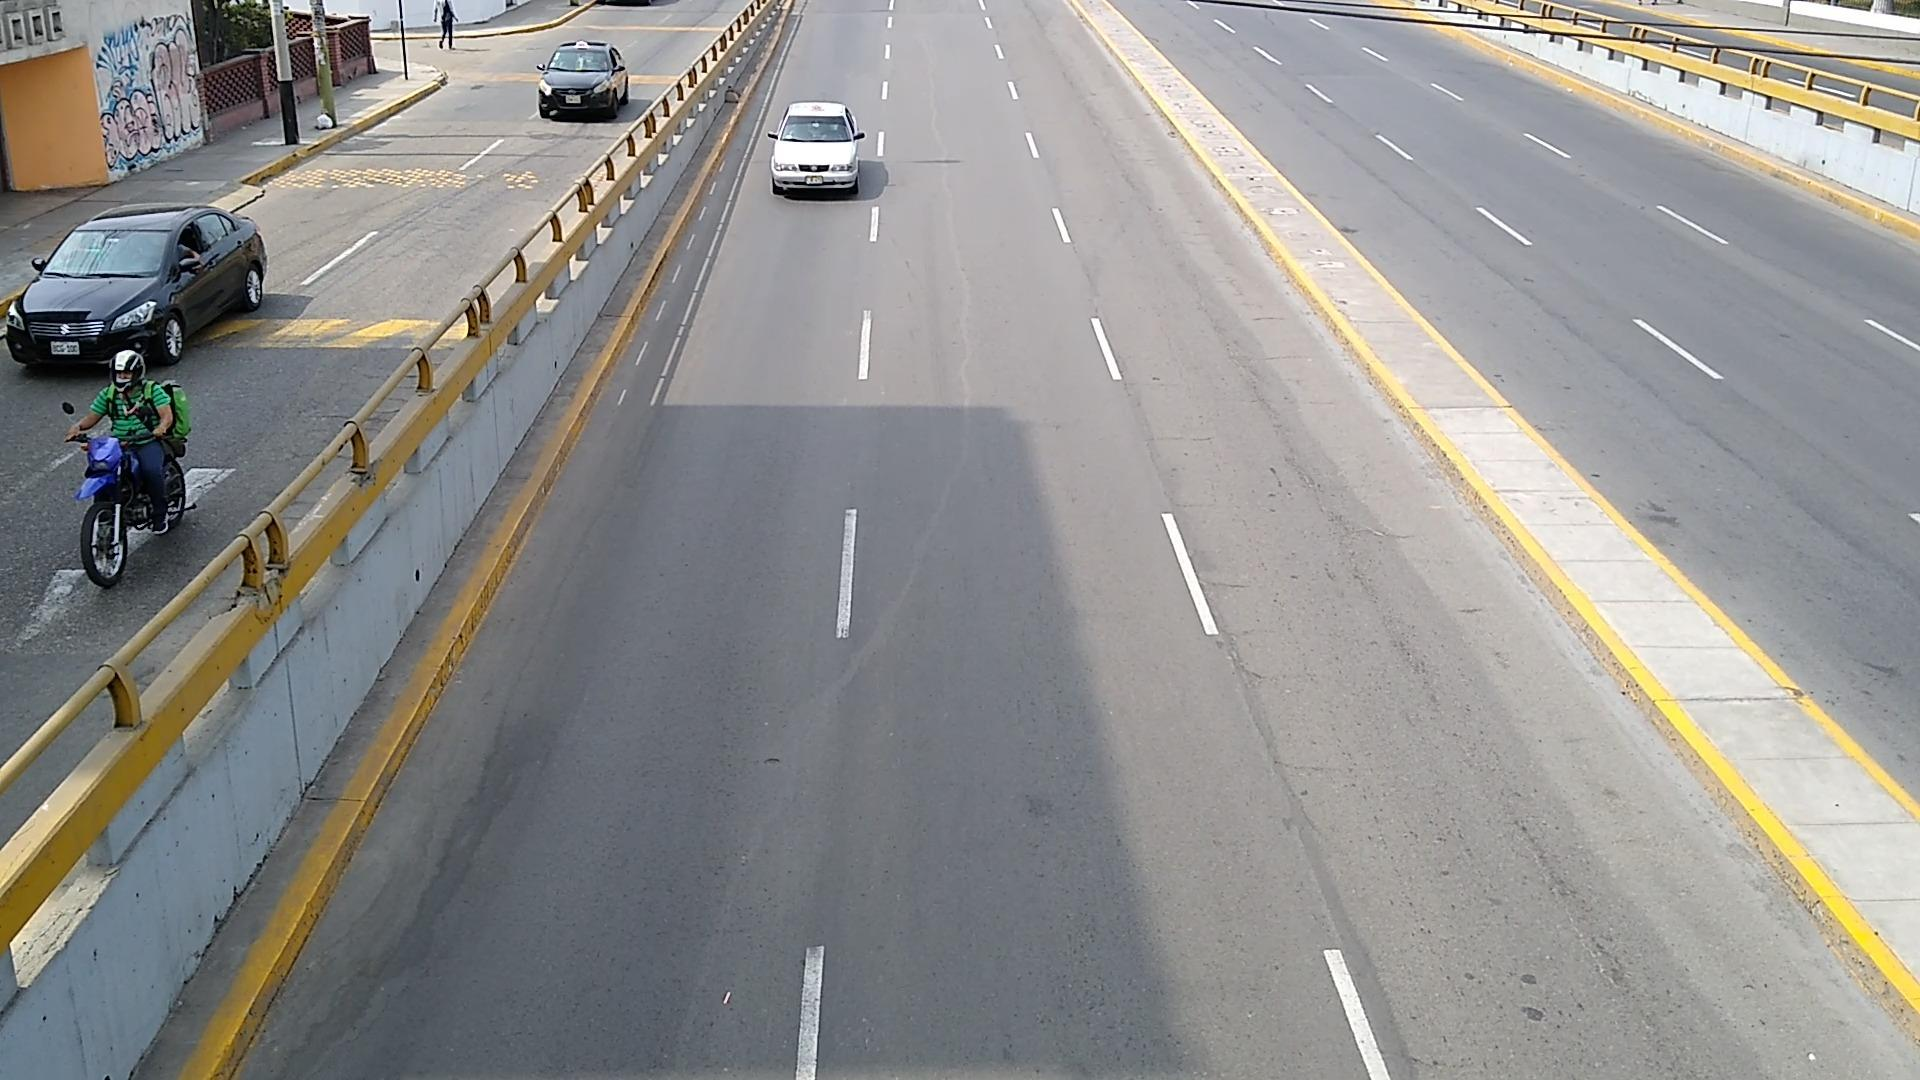car: (4, 203, 266, 365), (67, 348, 173, 533), (769, 102, 866, 195), (537, 41, 630, 116)
